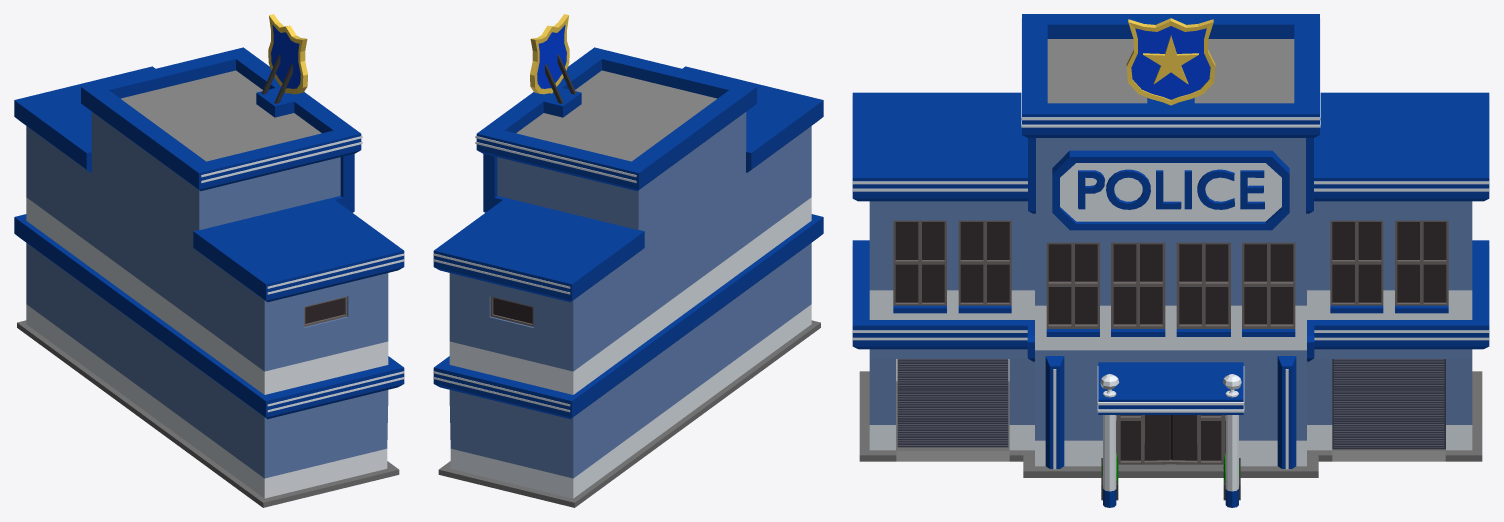
The model's file is low_poly_police_station.glb.
3 renders of one model, left to right at view 1: azimuth 30°, elevation 25°; view 2: azimuth 150°, elevation 25°; view 3: azimuth 270°, elevation 25°, orthographic. The views are drawn at different scales.
Parts seen in each view (by area): view 1: PublicBuilding_Police; view 2: PublicBuilding_Police; view 3: PublicBuilding_Police.
Part boxes in pixels (left/top/right/bottom): PublicBuilding_Police: left=14, top=14, right=404, bottom=507; PublicBuilding_Police: left=433, top=14, right=823, bottom=507; PublicBuilding_Police: left=852, top=14, right=1489, bottom=507.
Size of what is drawn, in the model's own units: 4.44 by 7 by 9.
Materials: 1 (1 with a texture image).
